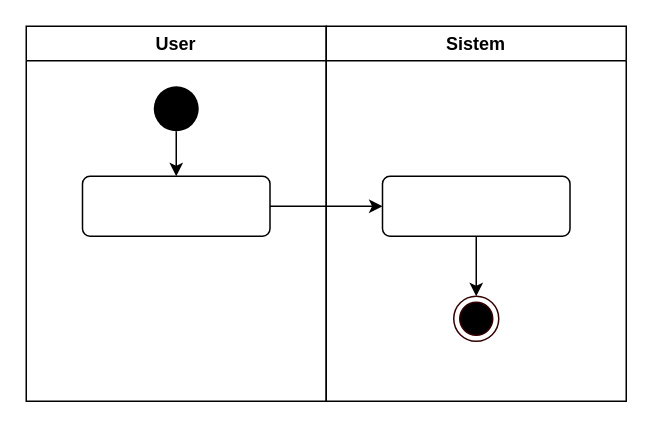
Image size: 653x428. Some labels were removed from this diagram. Each missing label, with the centre of its shape:
Menampilkan halaman about: the point at 475,205
Pilih halaman about: the point at 175,205
